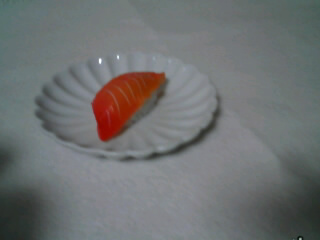002_classes: (89, 68, 169, 144)
